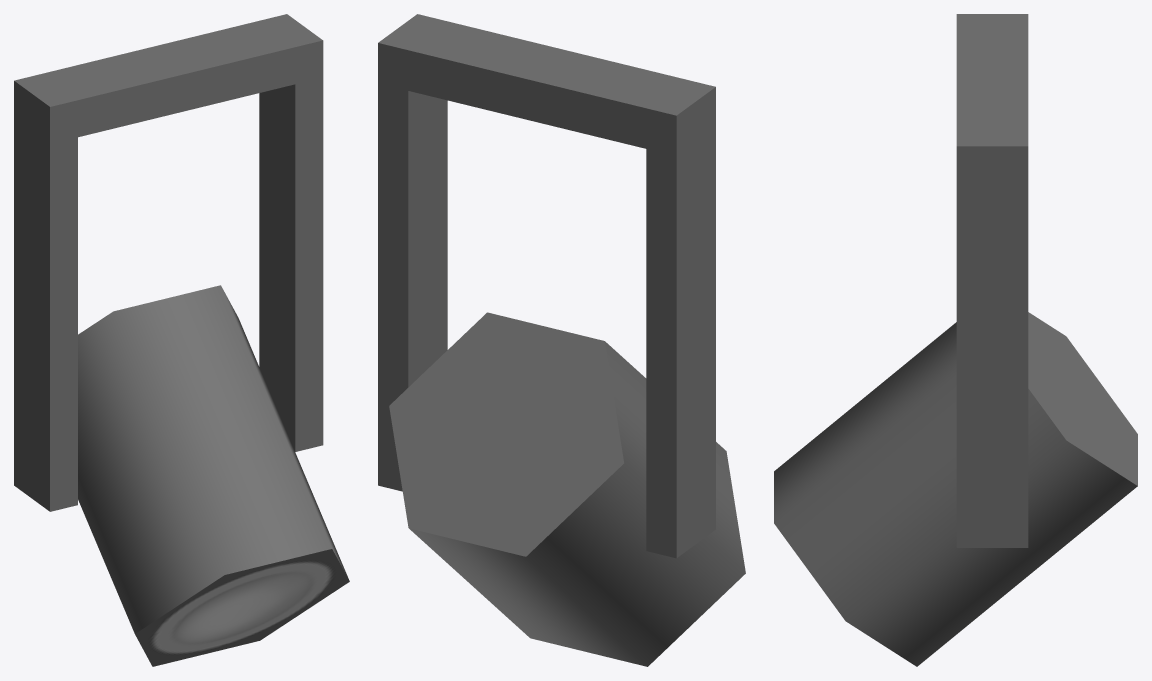
File: light_up.fbx
3 views of the same model, side by side, from view 1: azimuth 30°, elevation 25°; view 2: azimuth 150°, elevation 25°; view 3: azimuth 270°, elevation 25° (orthographic). The views are drawn at different scales.
Visible parts, largest first — view 1: polySurface41; view 2: polySurface41; view 3: polySurface41.
Part boxes in pixels (x1,y1,x2,y2): polySurface41: [14, 14, 349, 666]; polySurface41: [378, 14, 745, 666]; polySurface41: [774, 14, 1137, 666].
Bounding box in the file's own units: 6.94 × 13.73 × 8.07.
Materials: 1 (1 with a texture image).
